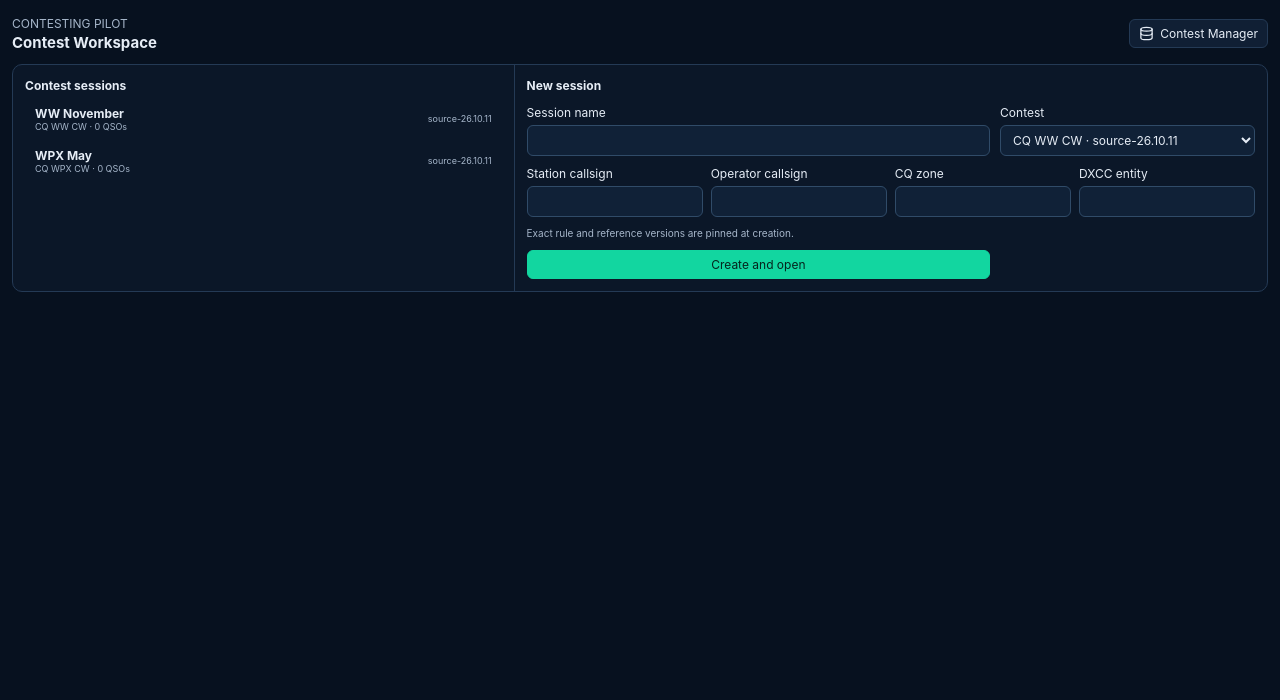
Test: does not mint a second draft operation when the first reply is lost before the next timer
This screenshot has width=1280, height=700.
Check: the text "WW November" is shown, box [35,106,127,120]
Click the button "WW November CQ WW CW · 0 QSOs source-26.10.11" at [79, 113], box [25,100,502,137]
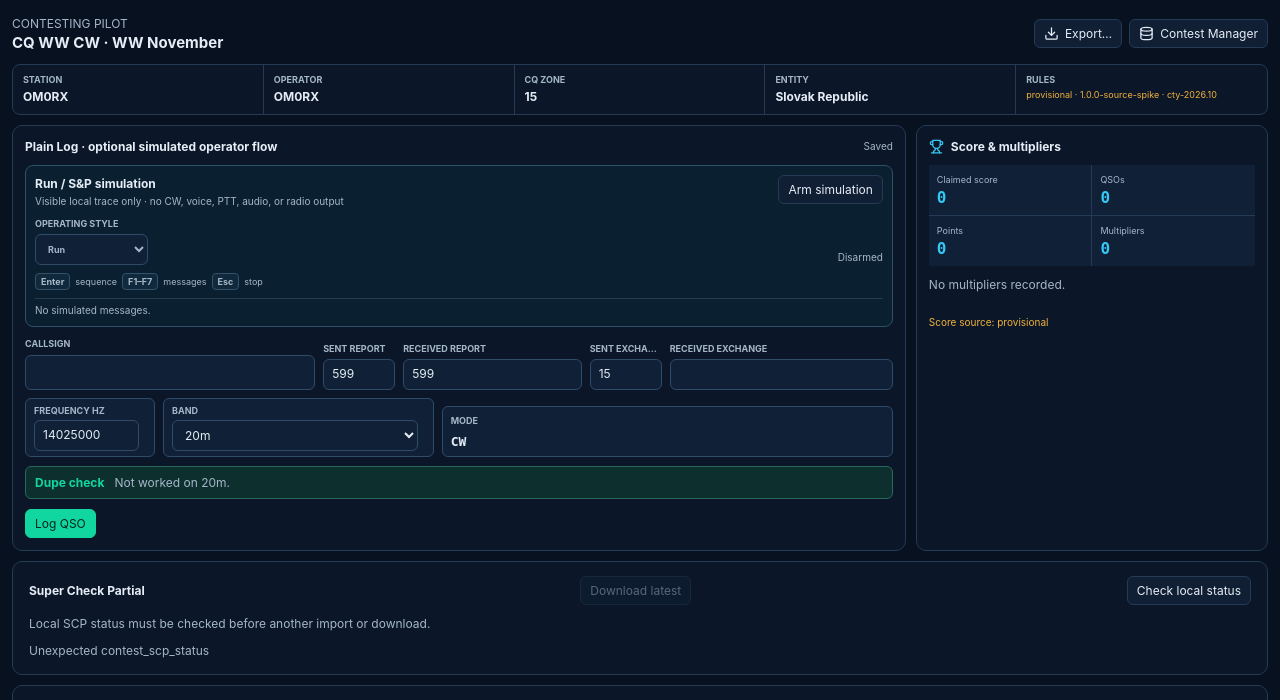
Check: the form named "CW contest entry" is shown, box [12,125,906,551]
Type "K1A" into the field named "Contest callsign" at [170, 372], box [25,354,315,390]
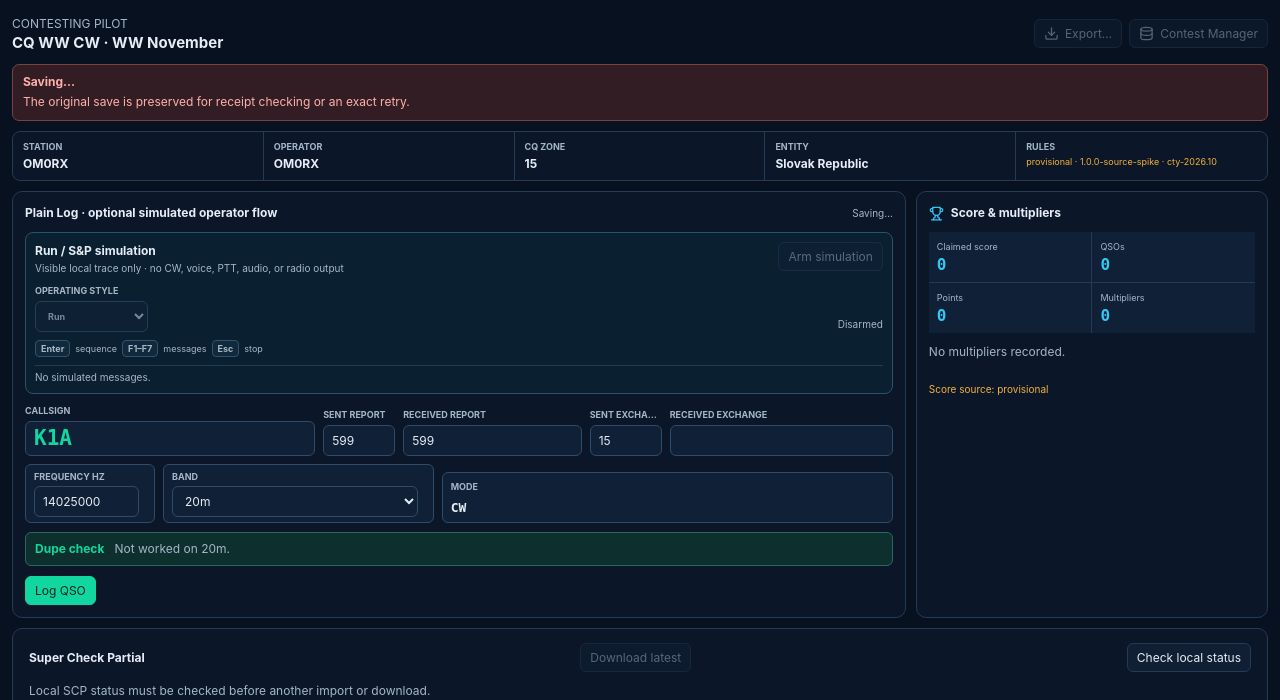
Replace the text in the field named "Contest callsign" with "K1ABC" at [170, 439], box [25,421,315,456]
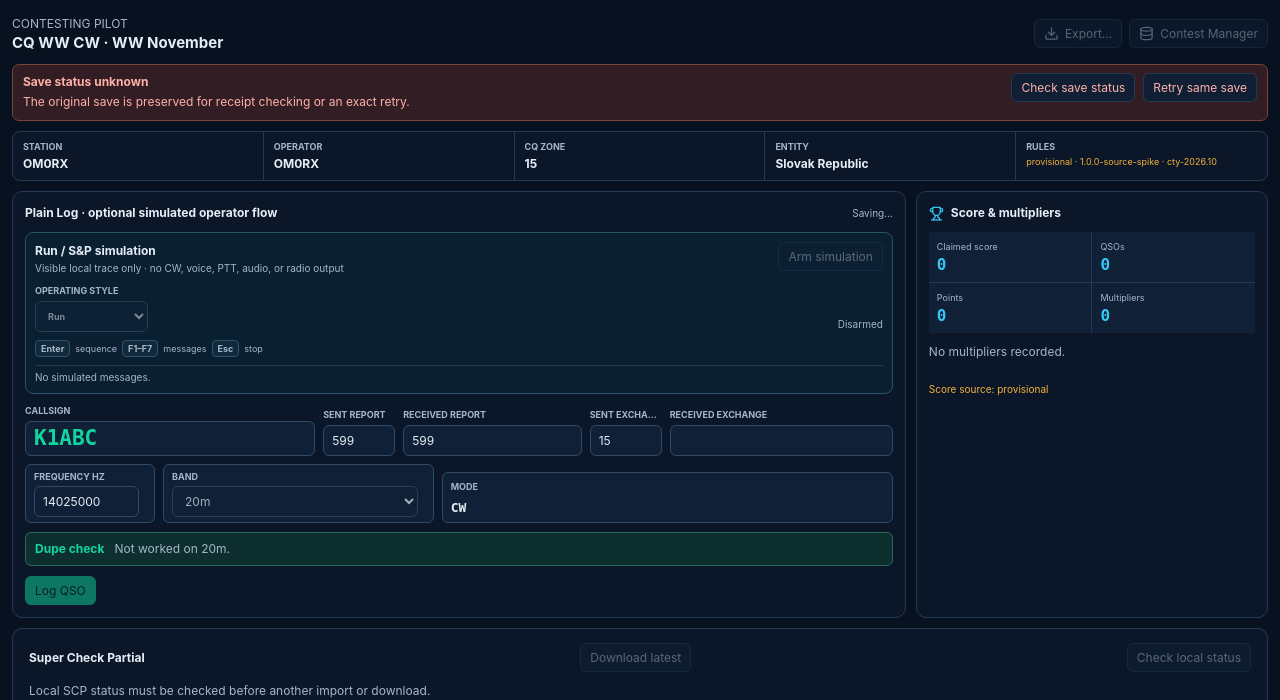
Check: the text "Save status unknown" is shown, box [23,74,148,89]
